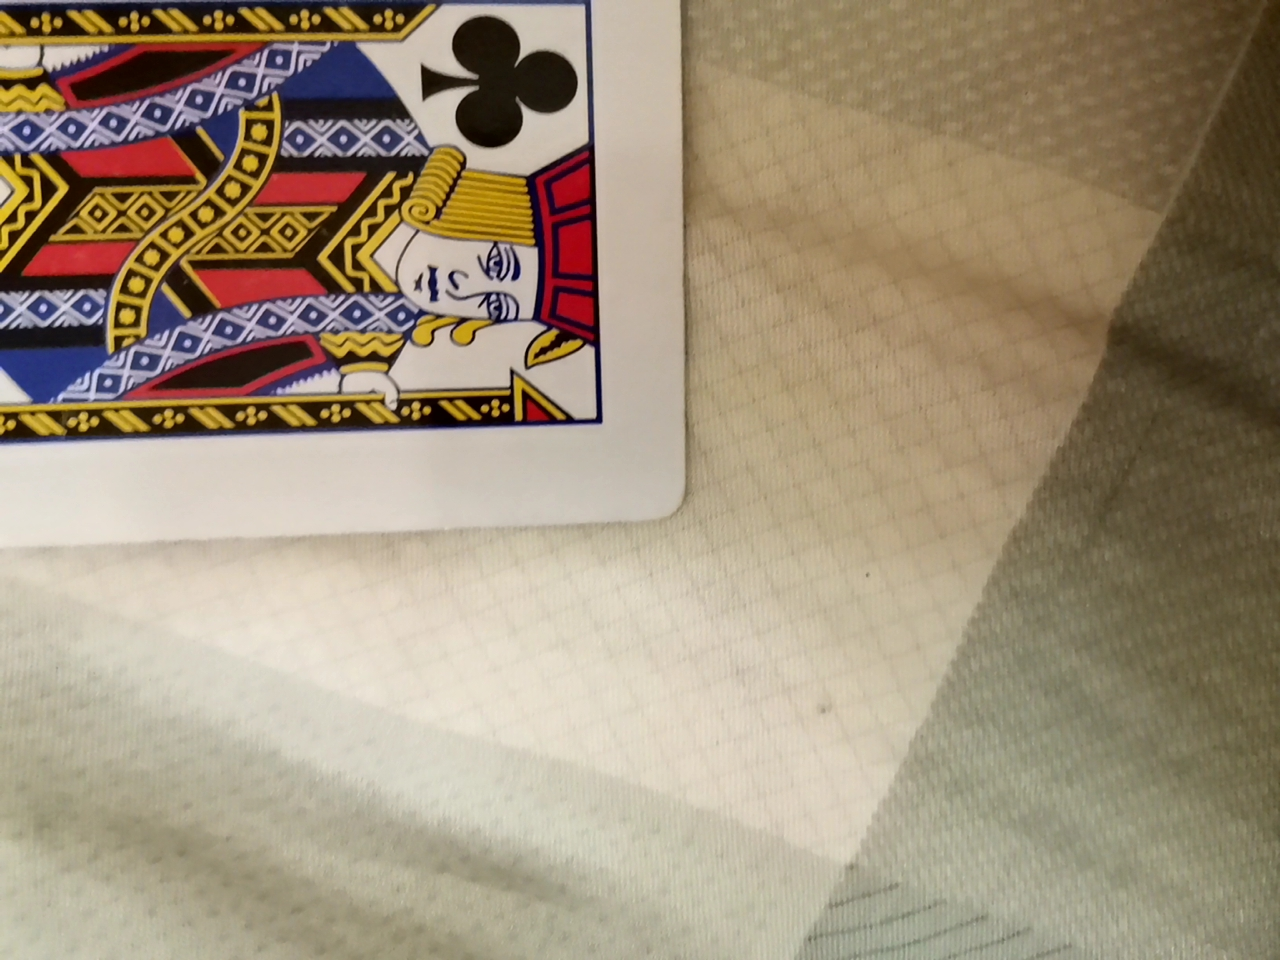mh j: (1, 0, 690, 579)
